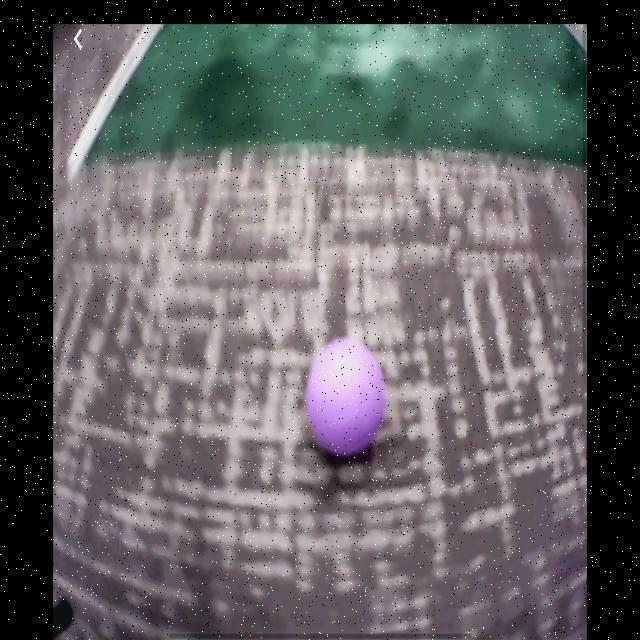ball: (307, 339, 386, 454)
